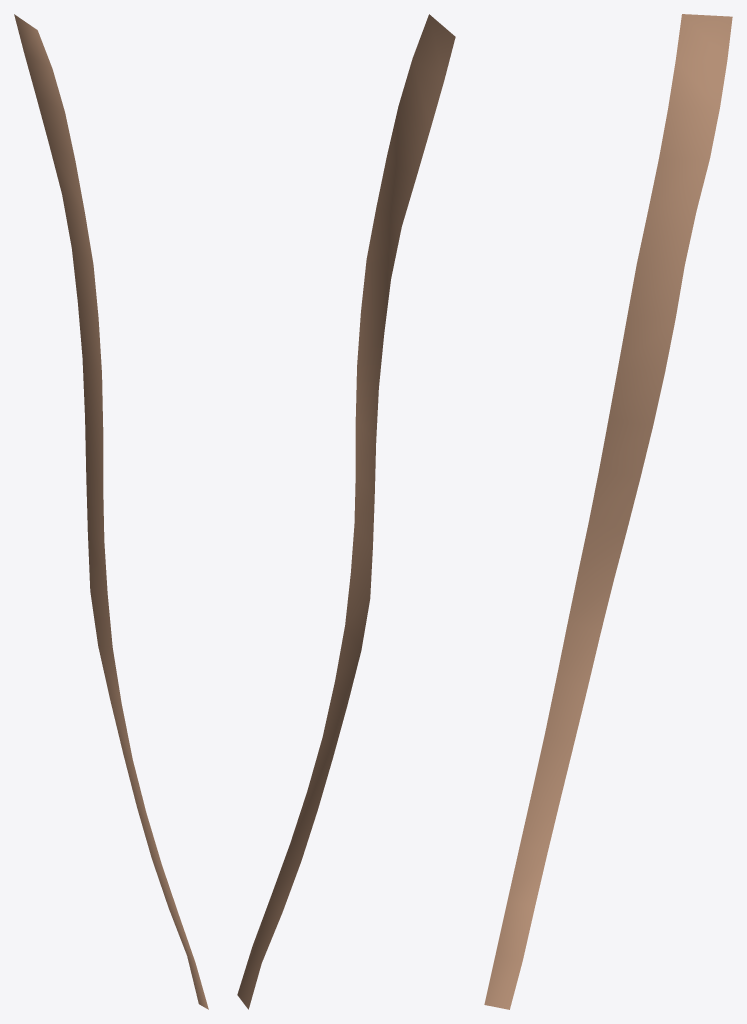
Rendered from lateral-border-of-forearm-l.glb.
The picture shows the model from 3 angles, left to right: view 1: azimuth 30°, elevation 25°; view 2: azimuth 210°, elevation 25°; view 3: azimuth 270°, elevation 25°; orthographic projection. The views are drawn at different scales.
Visible parts, largest first — view 1: Lateral border of forearm.l; view 2: Lateral border of forearm.l; view 3: Lateral border of forearm.l.
Part boxes in pixels (x1,y1,x2,y2): Lateral border of forearm.l: (14, 14, 208, 1009); Lateral border of forearm.l: (237, 14, 455, 1009); Lateral border of forearm.l: (484, 14, 732, 1009).
Size of the model in its own units: 0.0191 by 0.2196 by 0.0516.
